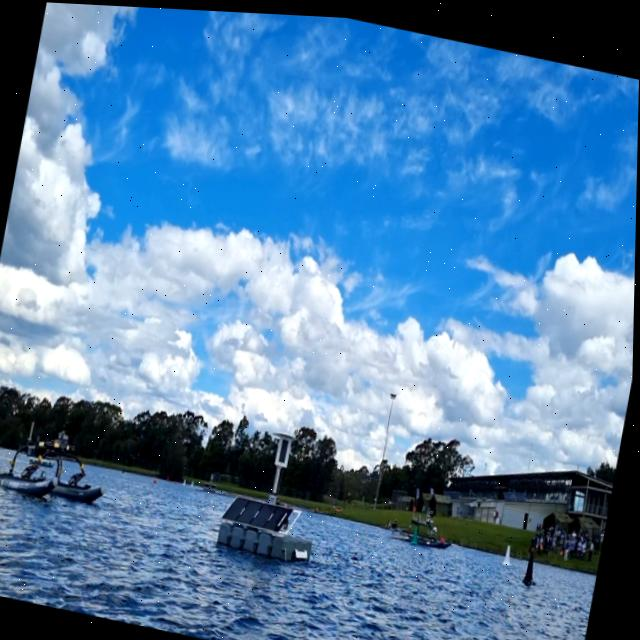led: (278, 434, 293, 462)
